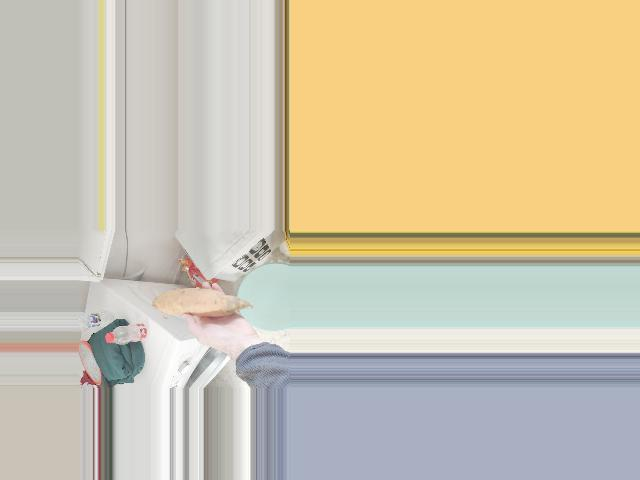sweet_potato: (164, 292, 232, 323)
